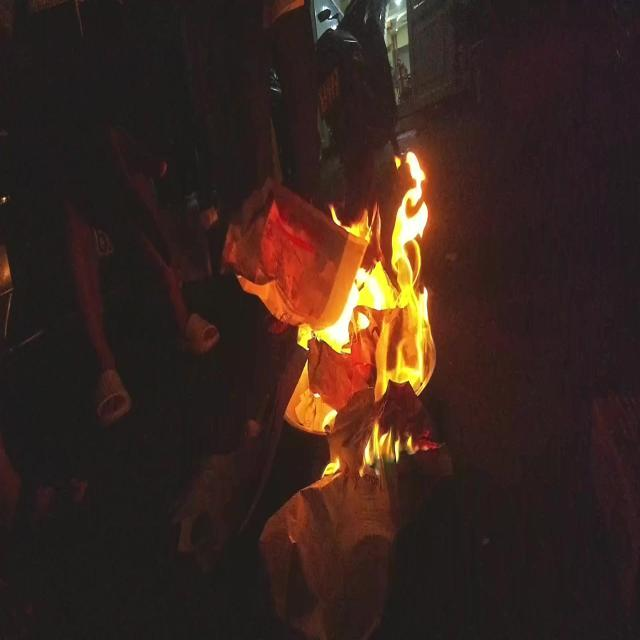Fire: (283, 145, 439, 478)
